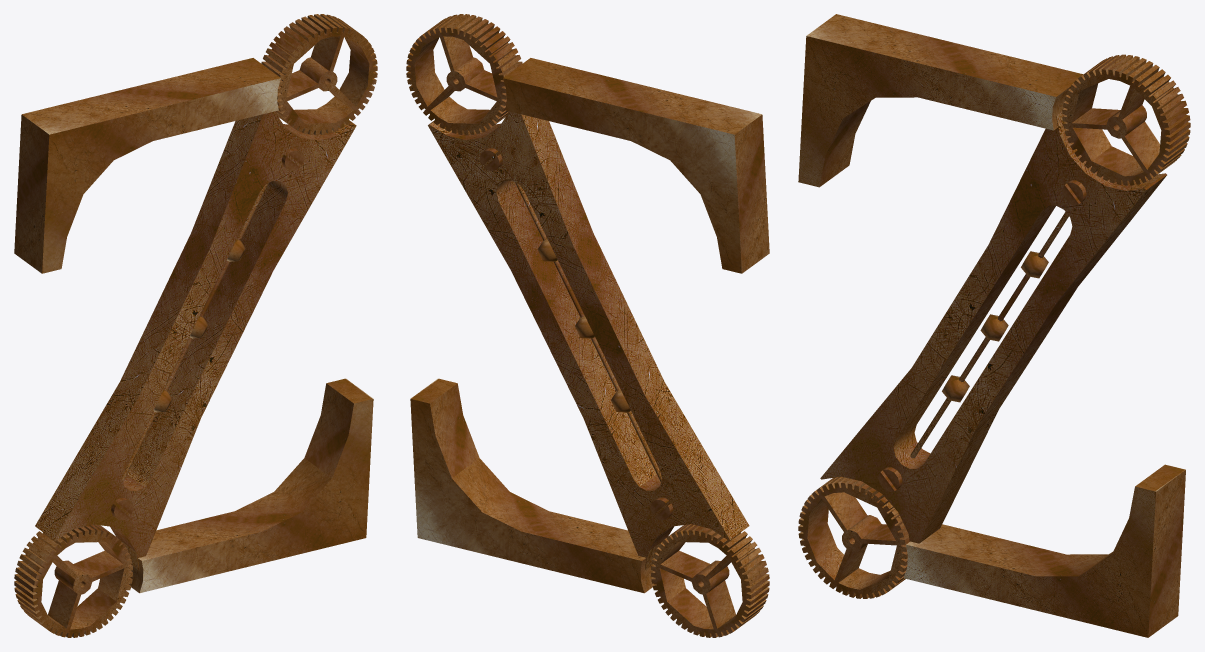
The picture shows the model from 3 angles, left to right: view 1: azimuth 30°, elevation 25°; view 2: azimuth 150°, elevation 25°; view 3: azimuth 330°, elevation 25°; orthographic projection. The views are drawn at different scales.
Visible parts, largest first — view 1: Z, Cogwheel_315, Cogwheel_310, Tube_515; view 2: Z, Cogwheel_315, Cogwheel_310, Tube_515; view 3: Z, Cogwheel_310, Cogwheel_315, Tube_515.
Boxes of the visible parts, <box> form: Z: <box>14,58,373,593</box>; Cogwheel_315: <box>14,524,132,637</box>; Cogwheel_310: <box>261,14,377,135</box>; Tube_515: <box>122,183,268,481</box>; Z: <box>410,58,769,593</box>; Cogwheel_315: <box>651,524,769,637</box>; Cogwheel_310: <box>406,14,522,135</box>; Tube_515: <box>515,182,661,481</box>; Z: <box>798,14,1185,637</box>; Cogwheel_310: <box>1062,54,1190,185</box>; Cogwheel_315: <box>798,476,909,598</box>; Tube_515: <box>910,212,1068,458</box>.
Size of the model in its own units: 71.56 by 109 by 10.
1 material, 1 textured.
